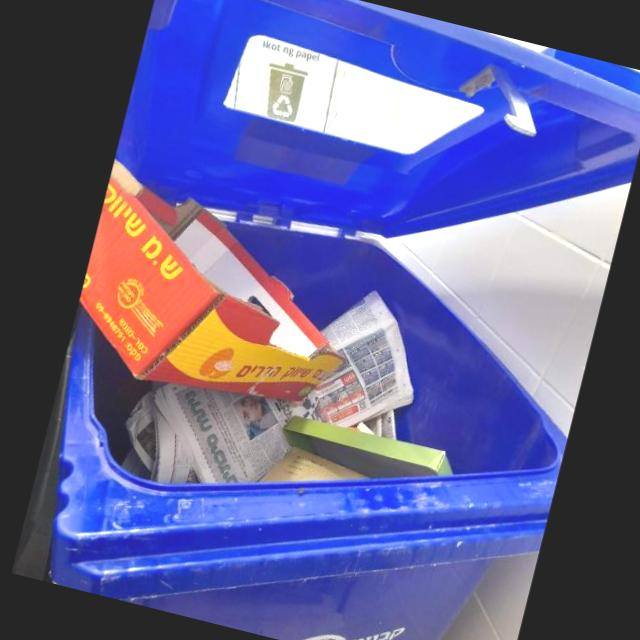carton: (79, 159, 343, 400), (282, 415, 452, 479)
giay: (124, 290, 413, 484)
